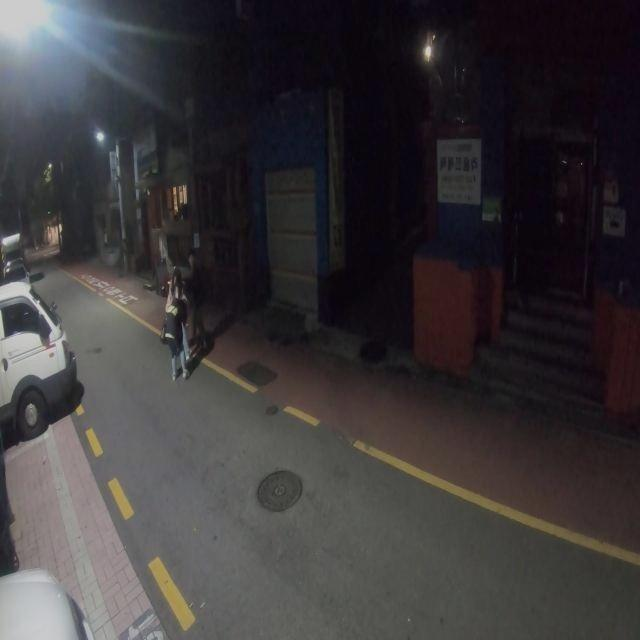fight: (160, 271, 193, 384)
non-fight: (182, 250, 206, 343)
